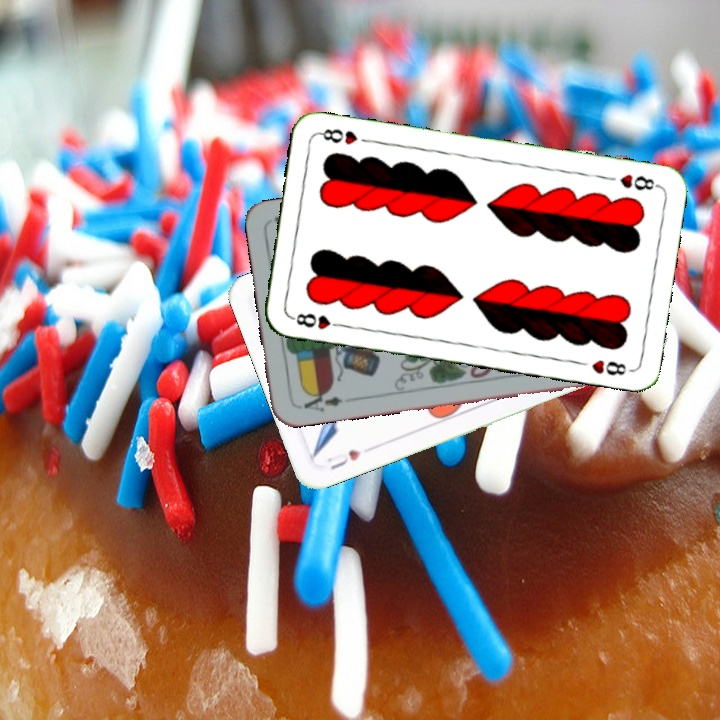EA: (300, 386, 345, 415)
H8: (287, 309, 347, 332), (615, 170, 662, 194)
HU: (322, 445, 364, 472)
